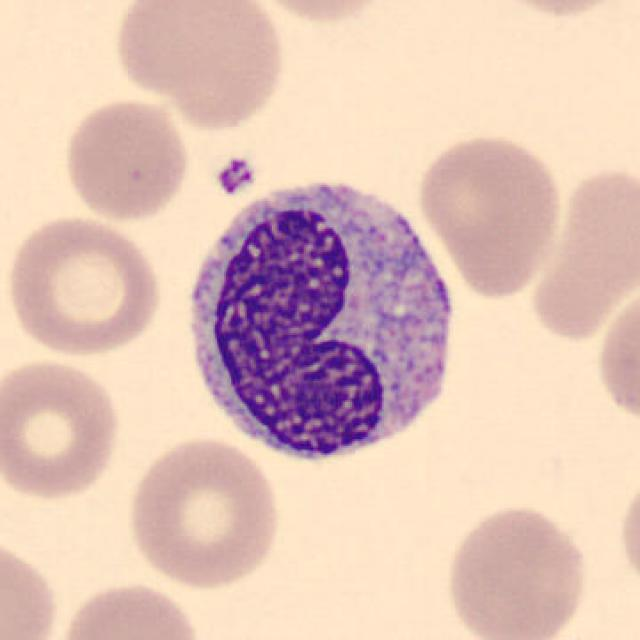Monocyte: (172, 164, 468, 481)
Platelets: (212, 154, 258, 198)
RBC: (413, 128, 567, 300), (123, 432, 284, 592), (2, 211, 165, 358), (108, 0, 291, 130), (439, 500, 592, 640), (524, 160, 640, 344), (0, 354, 126, 504), (59, 93, 192, 224), (51, 576, 208, 640), (592, 282, 638, 436), (0, 530, 62, 640), (244, 0, 402, 28), (613, 466, 640, 600), (476, 0, 636, 19)
